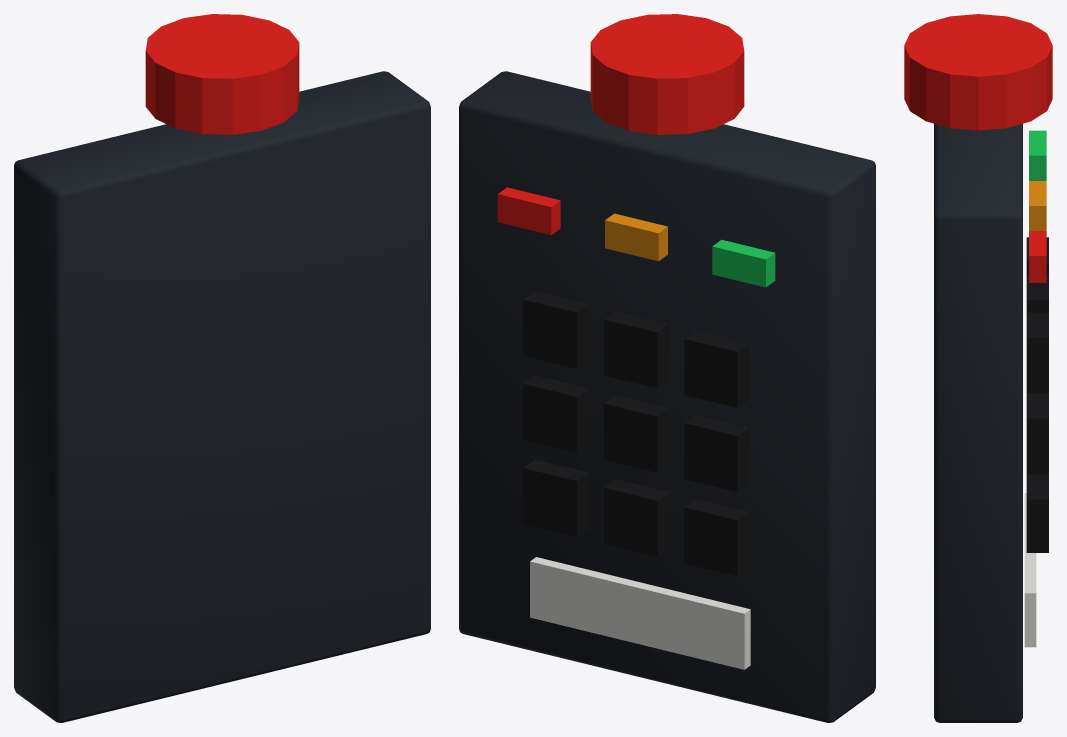
File: hm_bank_alarm_panel_v2.obj
3 views of the same model, side by side, from view 1: azimuth 30°, elevation 25°; view 2: azimuth 150°, elevation 25°; view 3: azimuth 270°, elevation 25° (orthographic). The views are drawn at different scales.
Parts seen in each view (by area): view 1: AP_Body, AP_Siren; view 2: AP_Body, AP_Siren, AP_Sticker, AP_Key_2_2, AP_Key_1_0, AP_Key_1_2, AP_Key_0_0, AP_Key_0_2, AP_Key_2_0, AP_Key_0_1, AP_Key_1_1, AP_Key_2_1 (+3 smaller); view 3: AP_Body, AP_Siren, AP_Key_1_2, AP_Key_2_2, AP_Key_0_2, AP_Sticker, AP_LED_2, AP_LED_0, AP_LED_1, AP_Key_2_1.
Part boxes in pixels (bbox=[...]): AP_Body: bbox=[14, 71, 430, 722]; AP_Siren: bbox=[145, 14, 299, 134]; AP_Body: bbox=[459, 71, 875, 722]; AP_Siren: bbox=[590, 14, 744, 134]; AP_Sticker: bbox=[530, 557, 750, 669]; AP_Key_2_2: bbox=[523, 291, 588, 368]; AP_Key_1_0: bbox=[684, 414, 749, 492]; AP_Key_1_2: bbox=[523, 375, 588, 452]; AP_Key_0_0: bbox=[684, 499, 749, 576]; AP_Key_0_2: bbox=[523, 459, 588, 536]; AP_Key_2_0: bbox=[684, 330, 749, 407]; AP_Key_0_1: bbox=[604, 479, 668, 556]; AP_Key_1_1: bbox=[604, 395, 668, 472]; AP_Key_2_1: bbox=[604, 311, 668, 388]; AP_Body: bbox=[934, 123, 1022, 722]; AP_Siren: bbox=[904, 14, 1052, 130]; AP_Key_1_2: bbox=[1026, 393, 1048, 472]; AP_Key_2_2: bbox=[1026, 312, 1048, 391]; AP_Key_0_2: bbox=[1026, 474, 1048, 552]; AP_Sticker: bbox=[1024, 493, 1036, 647]; AP_LED_2: bbox=[1029, 231, 1046, 282]; AP_LED_0: bbox=[1029, 130, 1046, 180]; AP_LED_1: bbox=[1029, 181, 1046, 230]; AP_Key_2_1: bbox=[1026, 275, 1048, 312].
Size of the model in its own units: 0.28 by 0.44 by 0.1.
